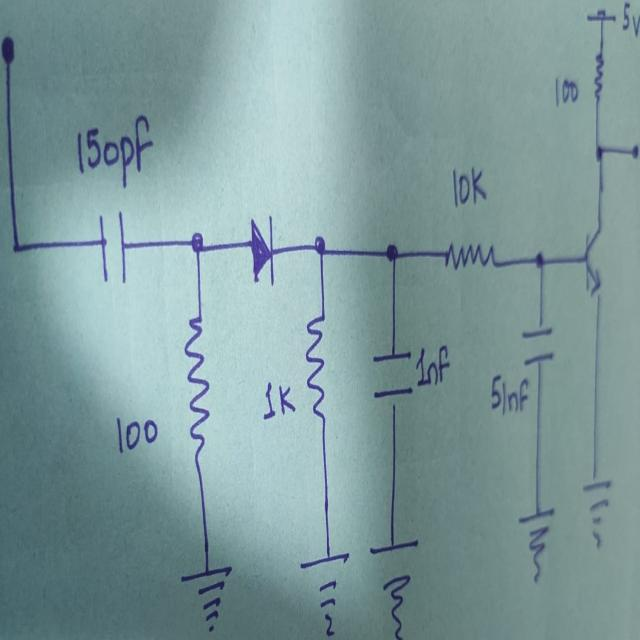capacitor: (372, 349, 412, 407), (96, 212, 128, 284), (522, 323, 554, 365)
diode: (247, 213, 275, 285)
ground: (366, 531, 421, 639), (298, 550, 352, 638), (179, 559, 234, 639), (520, 505, 554, 584), (582, 474, 612, 560)
junction: (383, 240, 402, 272), (189, 230, 206, 260), (11, 231, 26, 264), (313, 231, 329, 260), (532, 250, 548, 274), (594, 142, 606, 166)
resistor: (182, 309, 213, 459), (301, 306, 331, 429), (443, 238, 499, 272), (594, 48, 604, 106)
source: (584, 5, 620, 29)
terminal: (0, 32, 17, 70), (630, 143, 640, 161)
text: (78, 116, 152, 180), (114, 412, 160, 456), (489, 374, 529, 418), (450, 163, 489, 208), (260, 373, 295, 418), (416, 341, 449, 387), (554, 72, 582, 108), (621, 0, 639, 34)
transistor: (580, 220, 604, 303)
